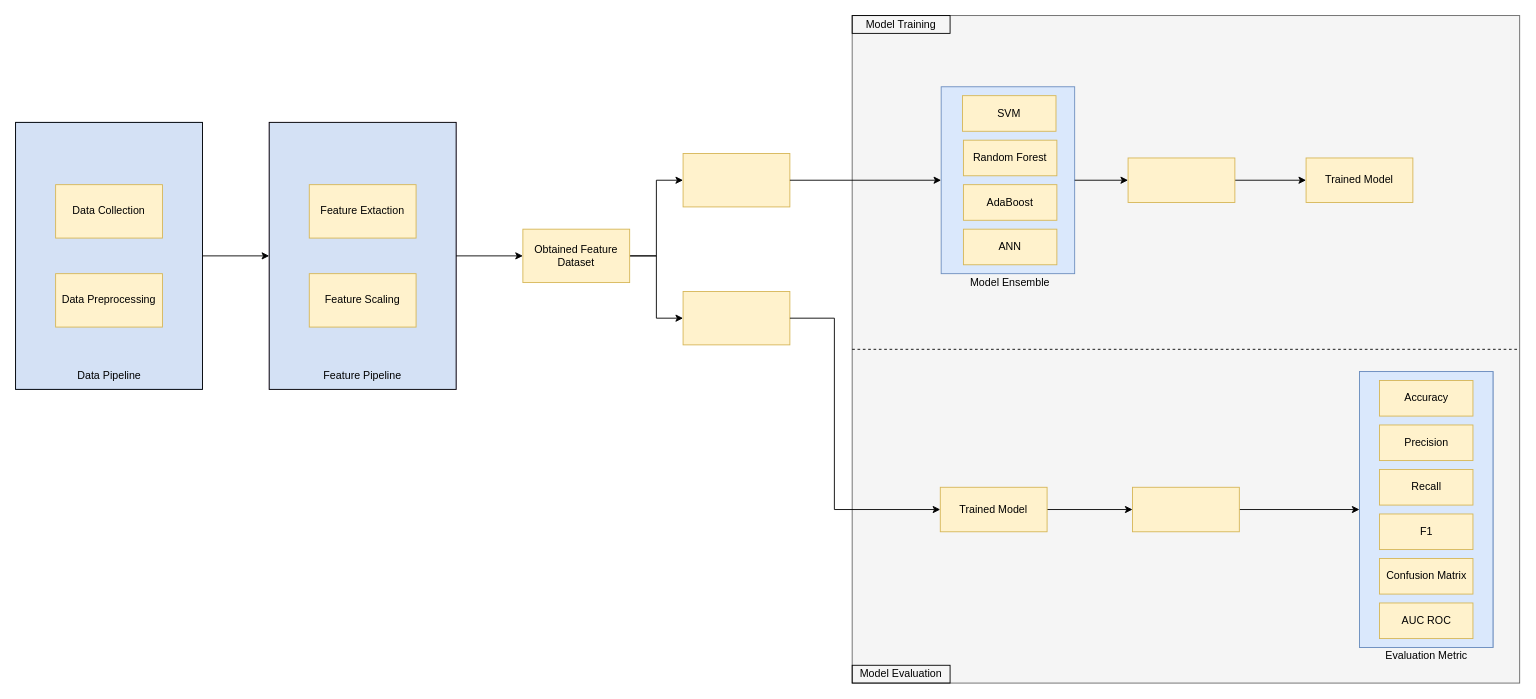
This 1536x699 diagram has some shape labels left out. Here are the shapes that lost their labels. From the top down, the centre of each, then its label:
At pixel 736 180: "Train Split".
At pixel 1181 179: "Soft Voting".
At pixel 736 318: "Test Split".
At pixel 1185 509: "Prediction".
